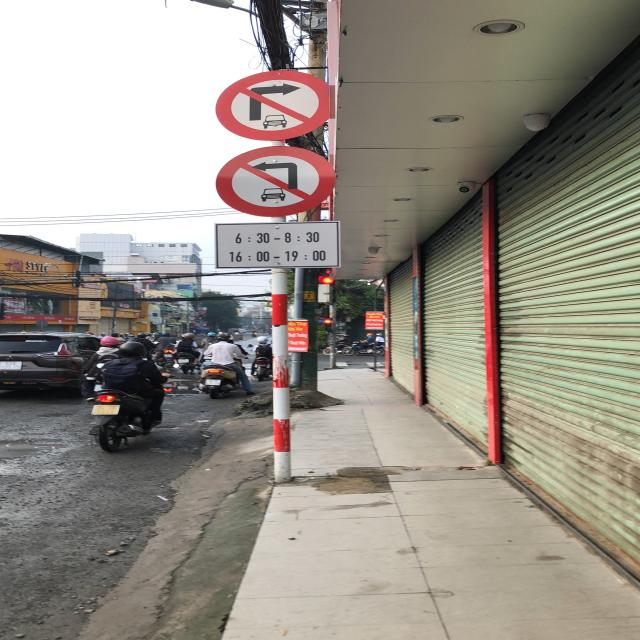Bien bao cam xe o to re phai: (210, 66, 342, 143)
Bien bao cam xe o to re trai: (208, 141, 338, 218)
